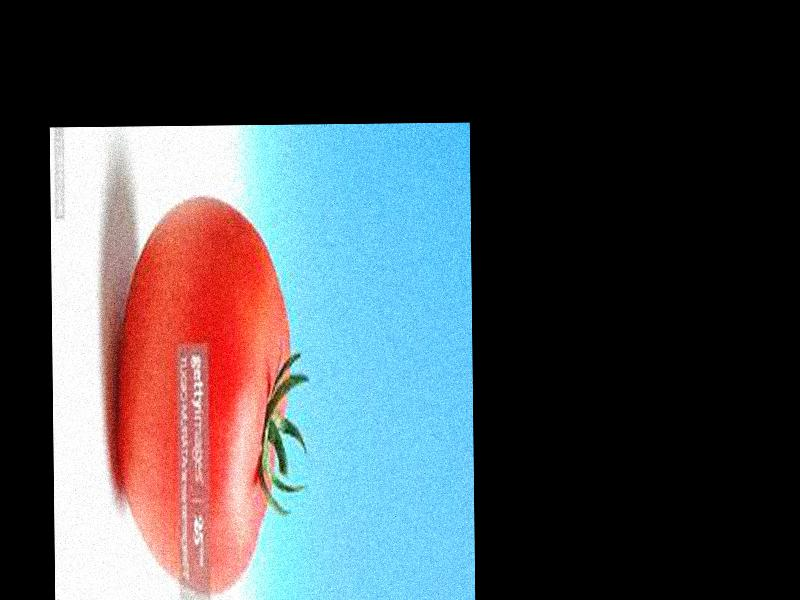Tomato: (117, 198, 292, 598)
